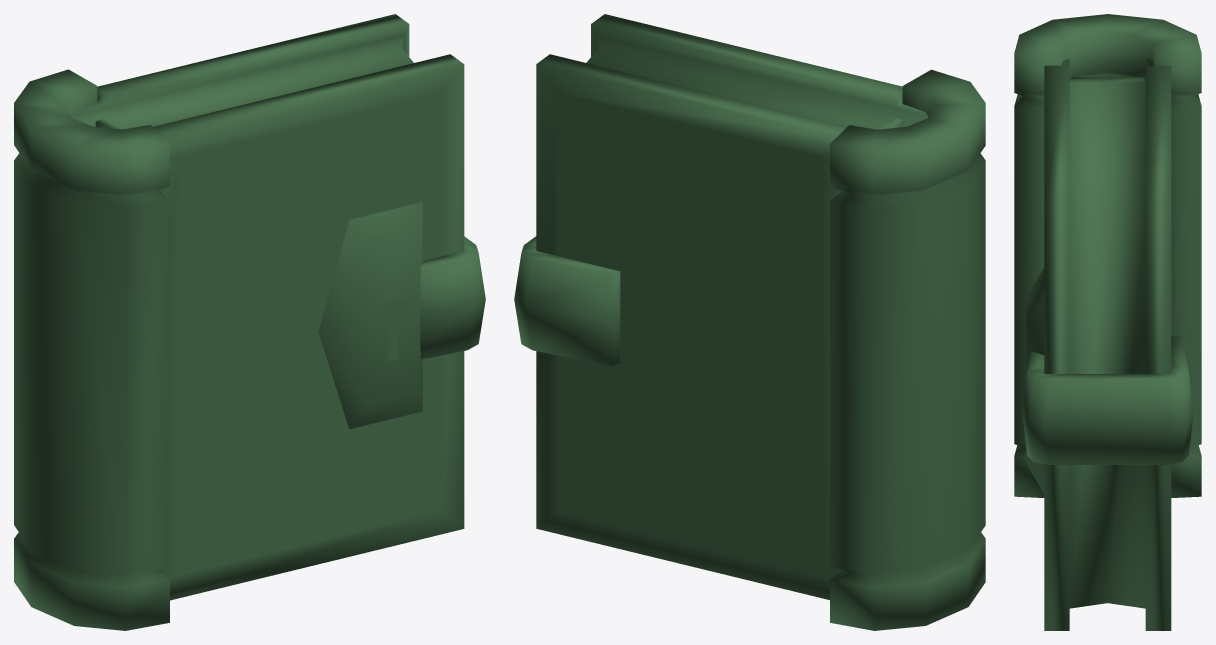
Rendered from SM_2hand_book_Tier1.fbx.
3 views of the same model, side by side, from view 1: azimuth 30°, elevation 25°; view 2: azimuth 150°, elevation 25°; view 3: azimuth 270°, elevation 25° (orthographic). The views are drawn at different scales.
Parts seen in each view (by area): view 1: Weapon_Paladin_03; view 2: Weapon_Paladin_03; view 3: Weapon_Paladin_03.
Part boxes in pixels (<box>): Weapon_Paladin_03: <box>14,14,485,630</box>; Weapon_Paladin_03: <box>514,14,985,630</box>; Weapon_Paladin_03: <box>1014,14,1201,630</box>.
Bounding box in the file's own units: 73.75 × 80.77 × 31.
1 material, 1 textured.
